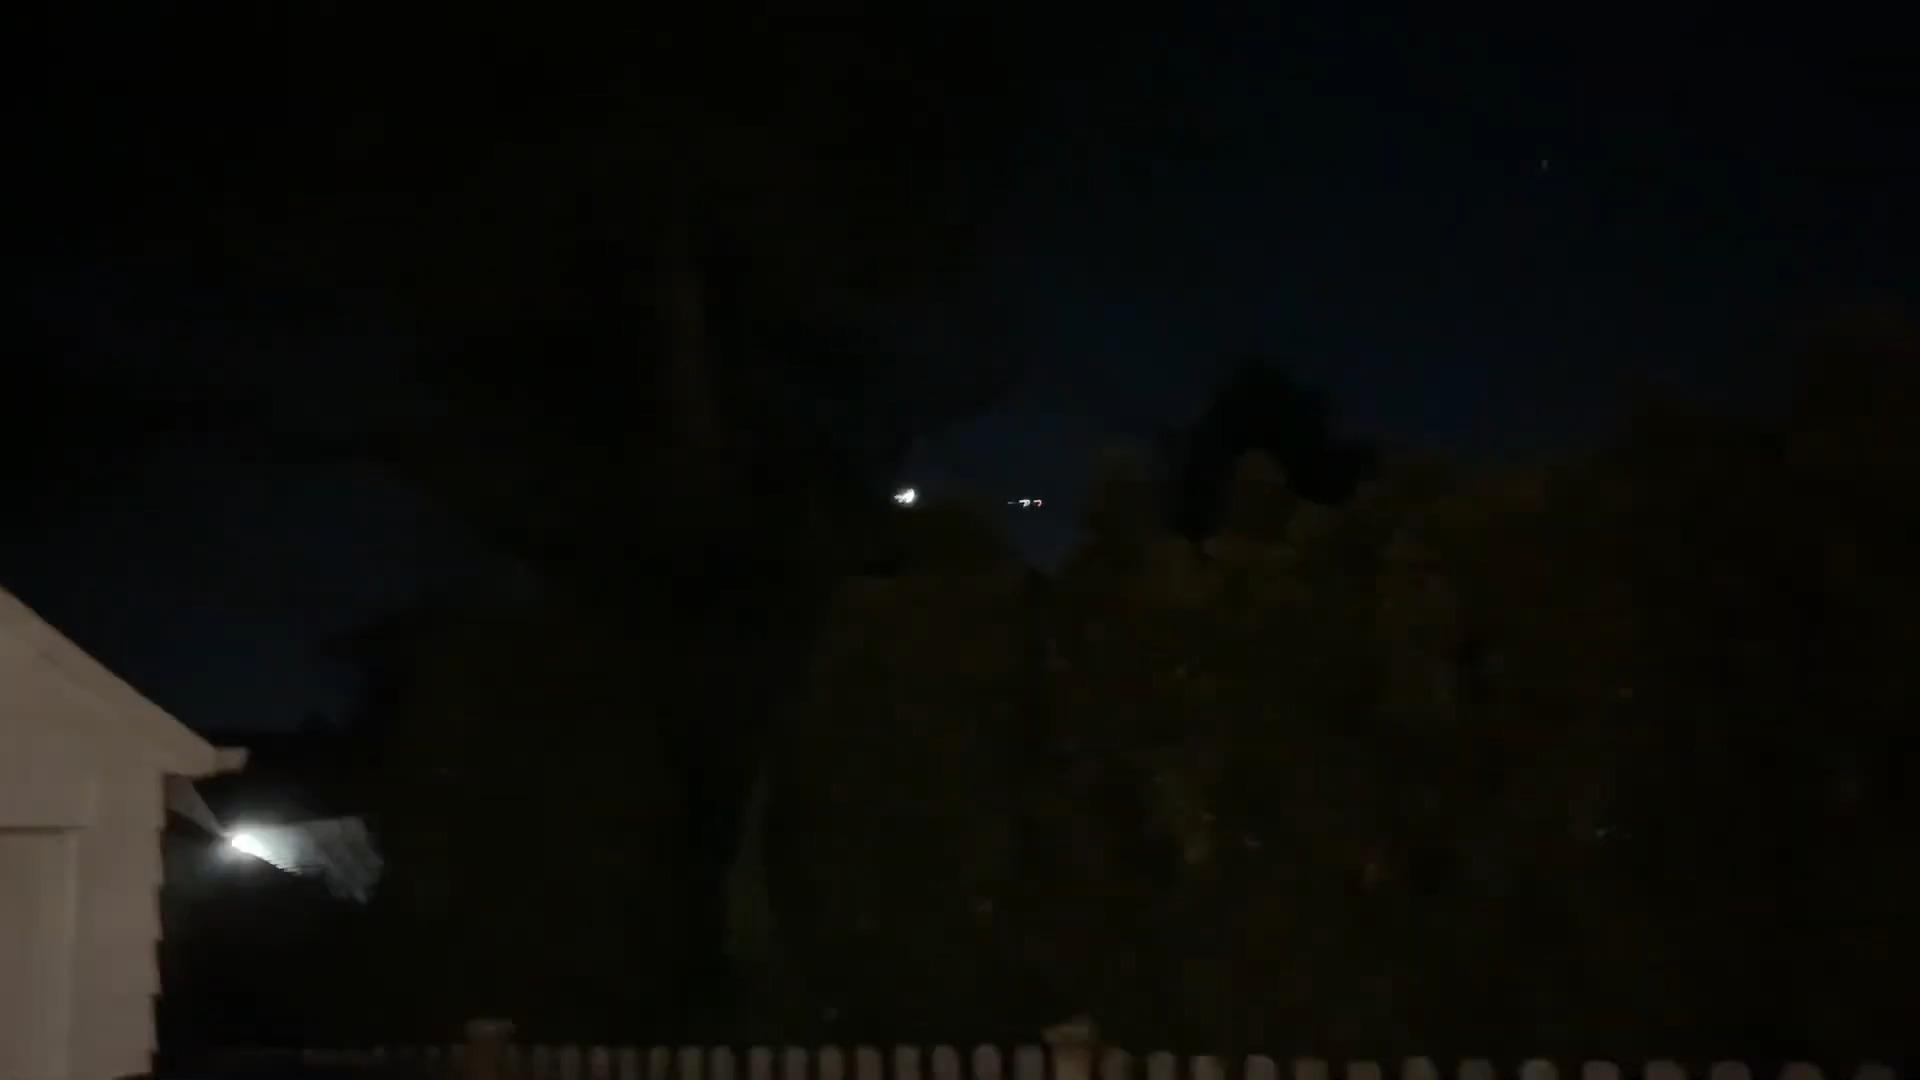Plane: (982, 487, 1071, 521)
